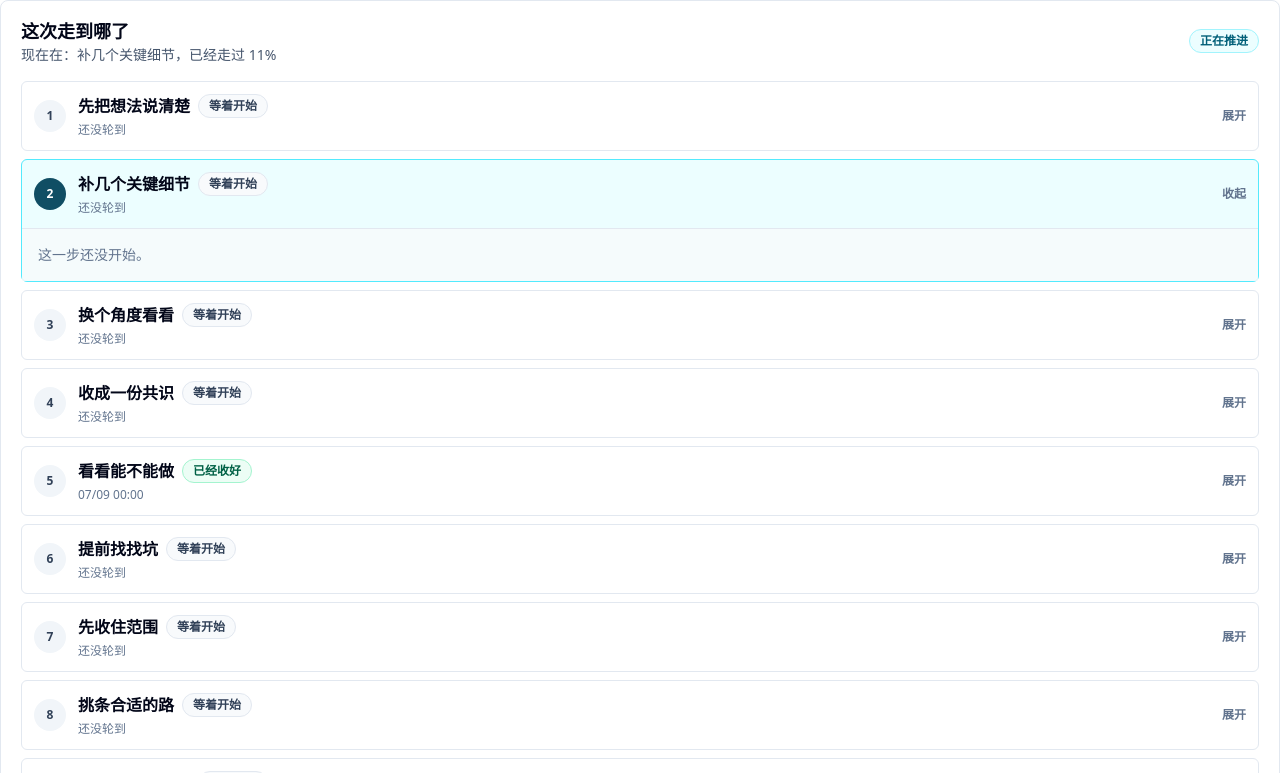
Test: StageRail › translates internal fields and enum values into Chinese
Click the heading "5 看看能不能做 已经收好 07/09 00:00 展开". click: (50, 481)
box: [22, 447, 1258, 515]
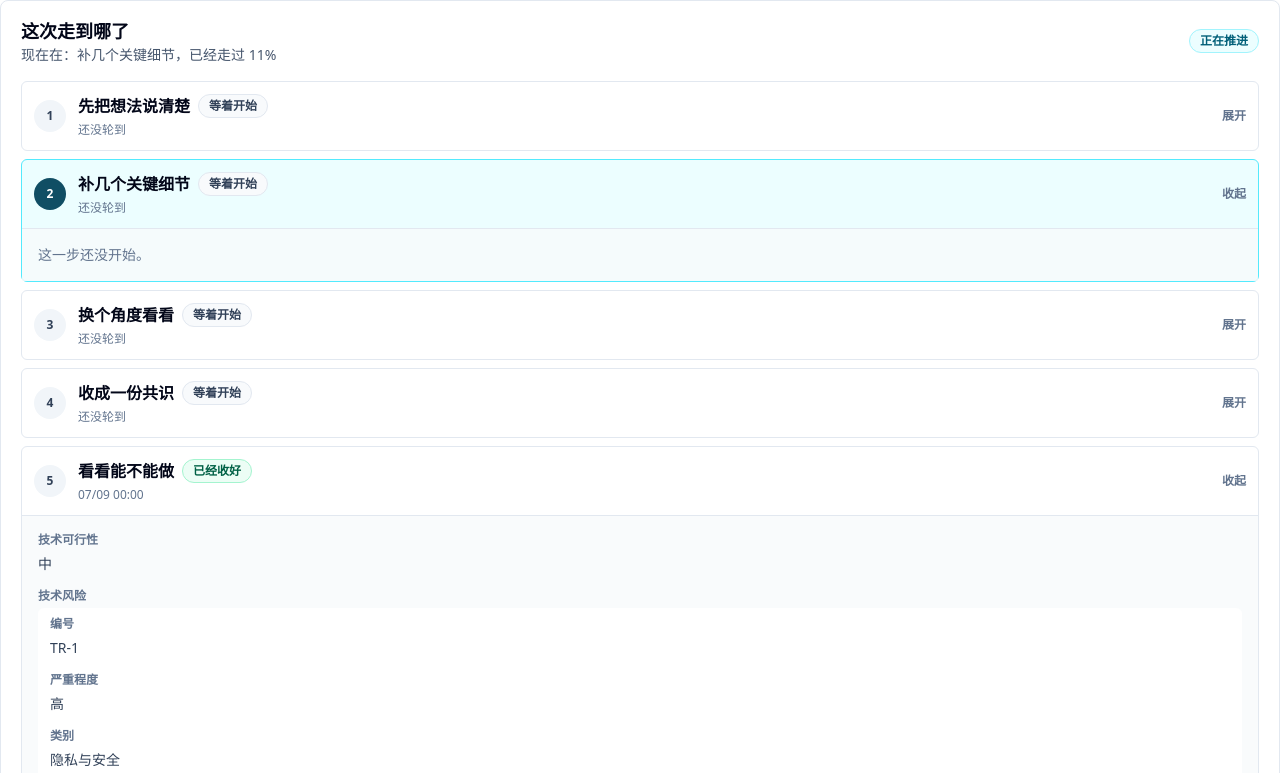
Check: the text "技术可行性" is shown, box [38, 531, 98, 548]
Check: the text "中" is shown, box [38, 554, 52, 573]
Check: the text "严重程度" is shown, box [50, 671, 98, 688]
